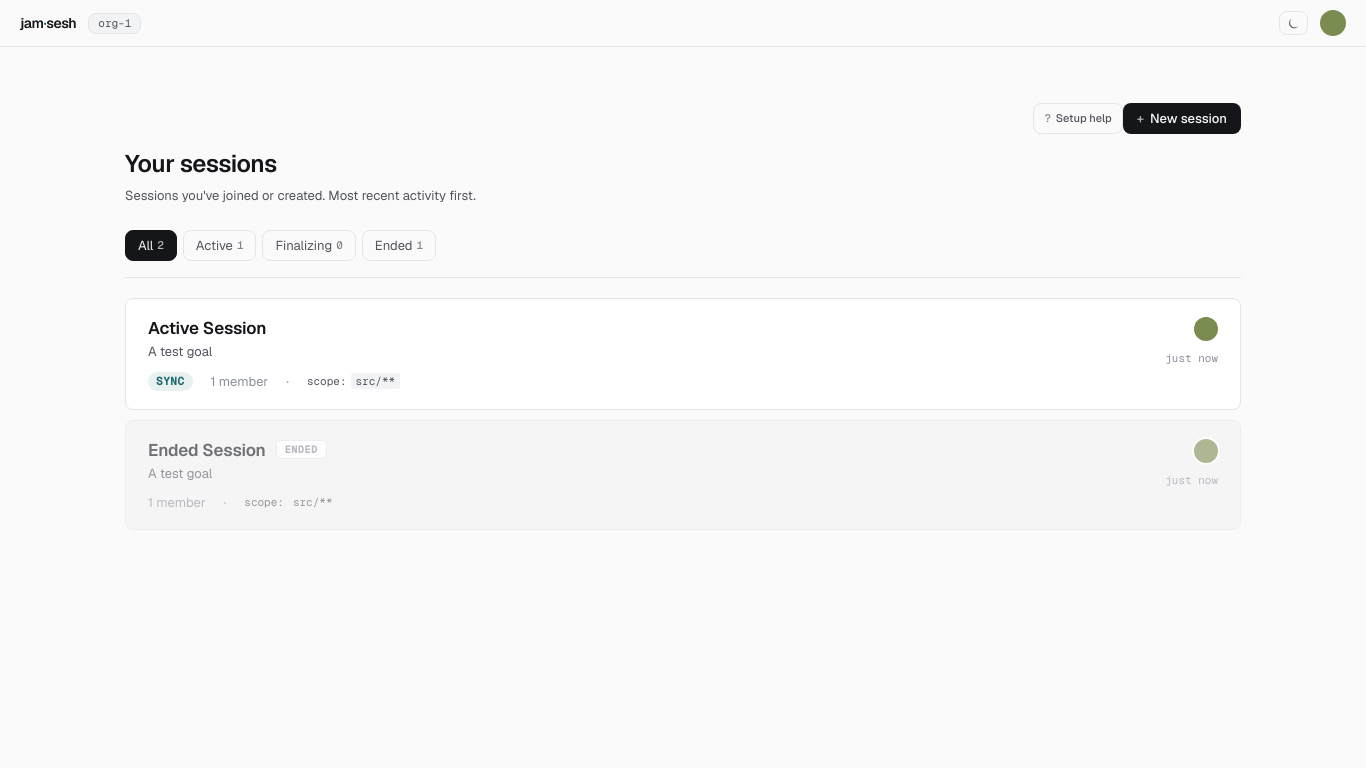
SessionList › filters sessions by status
expect the heading "Active Session" is shown: met, box [148,316,266,338]
expect the heading "Ended Session ended" is shown: met, box [148,439,327,461]
// Click "Active" filter — use getAllByRole to disambiguate from session rows
Click the button "Active 1" at (220, 245), box [183,230,256,260]
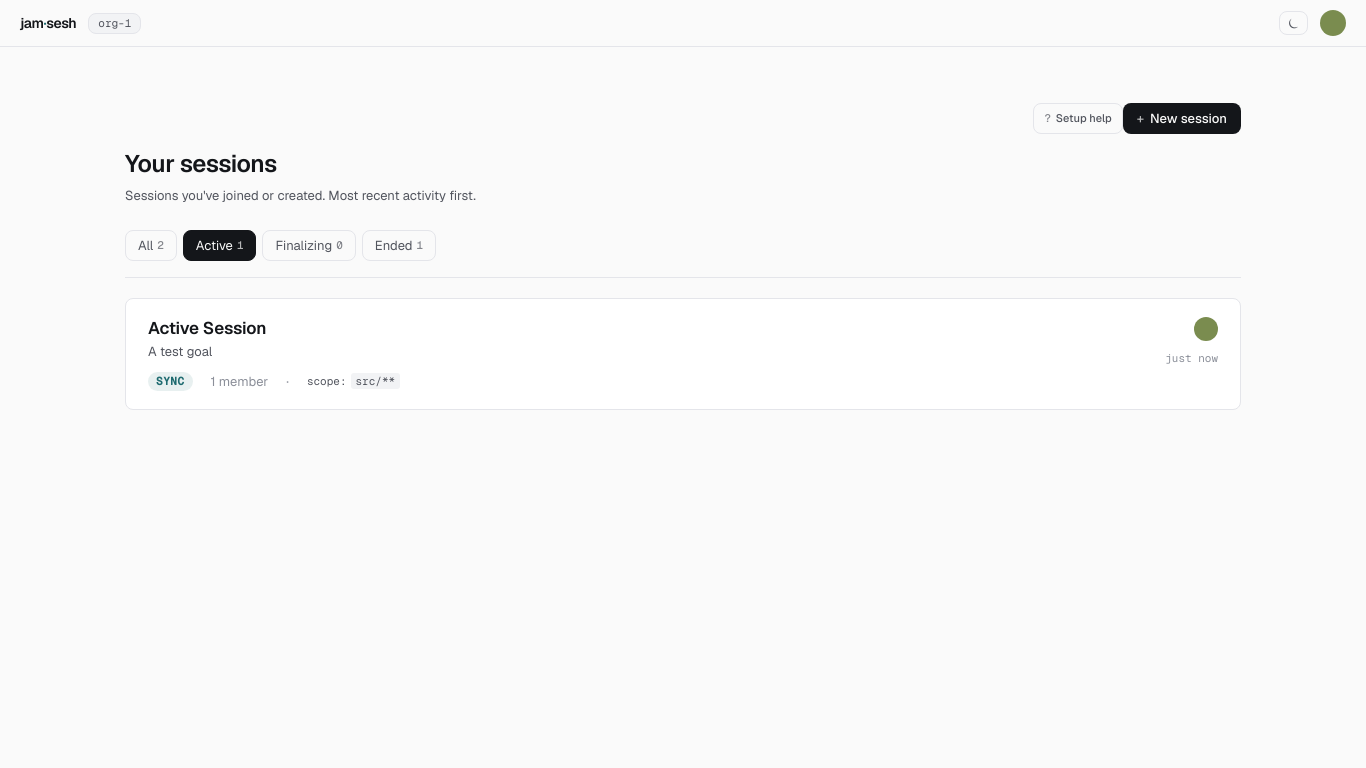
expect the heading "Active Session" is shown: met, box [148,316,266,338]
expect the button "Ended Session" is gone: met
